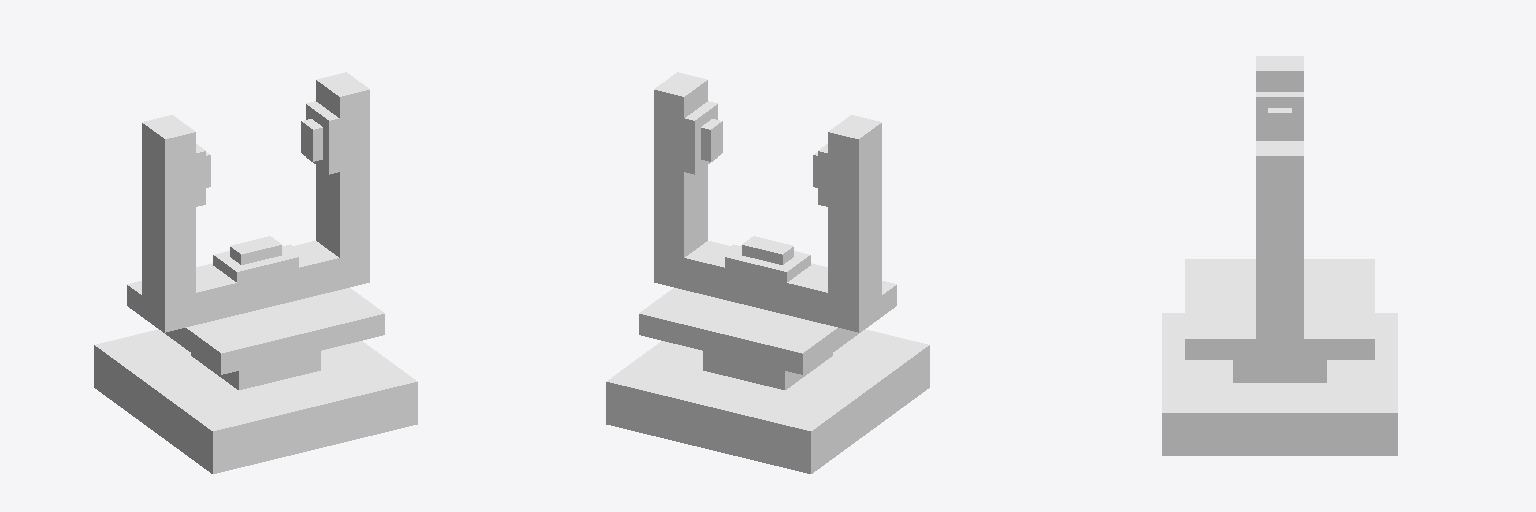
The model's file is resonator.obj.
The picture shows the model from 3 angles: view 1: azimuth 30°, elevation 25°; view 2: azimuth 150°, elevation 25°; view 3: azimuth 270°, elevation 25°; orthographic projection.
Parts seen in each view (by area): view 1: object 1; view 2: object 1; view 3: object 1.
Part boxes in pixels (x1,y1,x2,y2): object 1: (94, 72, 417, 473); object 1: (606, 72, 929, 473); object 1: (1162, 56, 1397, 455).
Size of the model in its own units: 2 by 2.8 by 2.